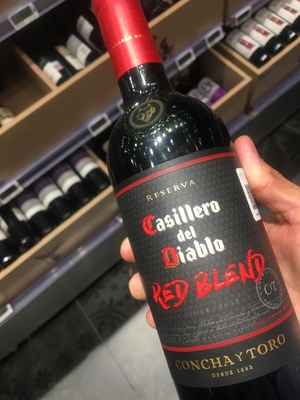casillero del diablo red blend: (80, 1, 295, 400)
